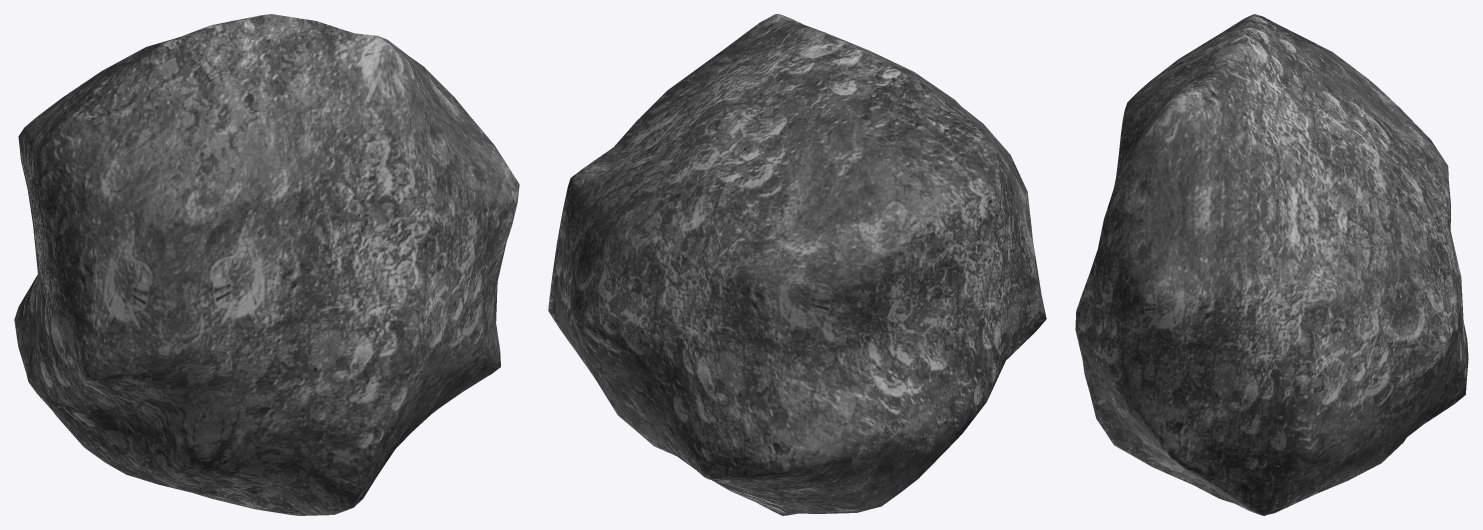
Rendered from Asteroid_4.glb.
3 views of the same model, side by side, from view 1: azimuth 30°, elevation 25°; view 2: azimuth 150°, elevation 25°; view 3: azimuth 270°, elevation 25° (orthographic). The views are drawn at different scales.
Visible parts, largest first — view 1: Aster_Small_4_; view 2: Aster_Small_4_; view 3: Aster_Small_4_.
Part boxes in pixels (x1,y1,x2,y2): Aster_Small_4_: [14, 14, 519, 515]; Aster_Small_4_: [548, 14, 1046, 515]; Aster_Small_4_: [1075, 14, 1468, 515].
Size of the model in its own units: 5.38 by 5.47 by 4.35.
1 material, 1 textured.
